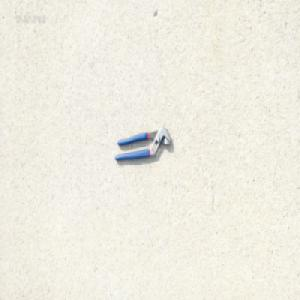Pliers: (113, 125, 172, 163)
